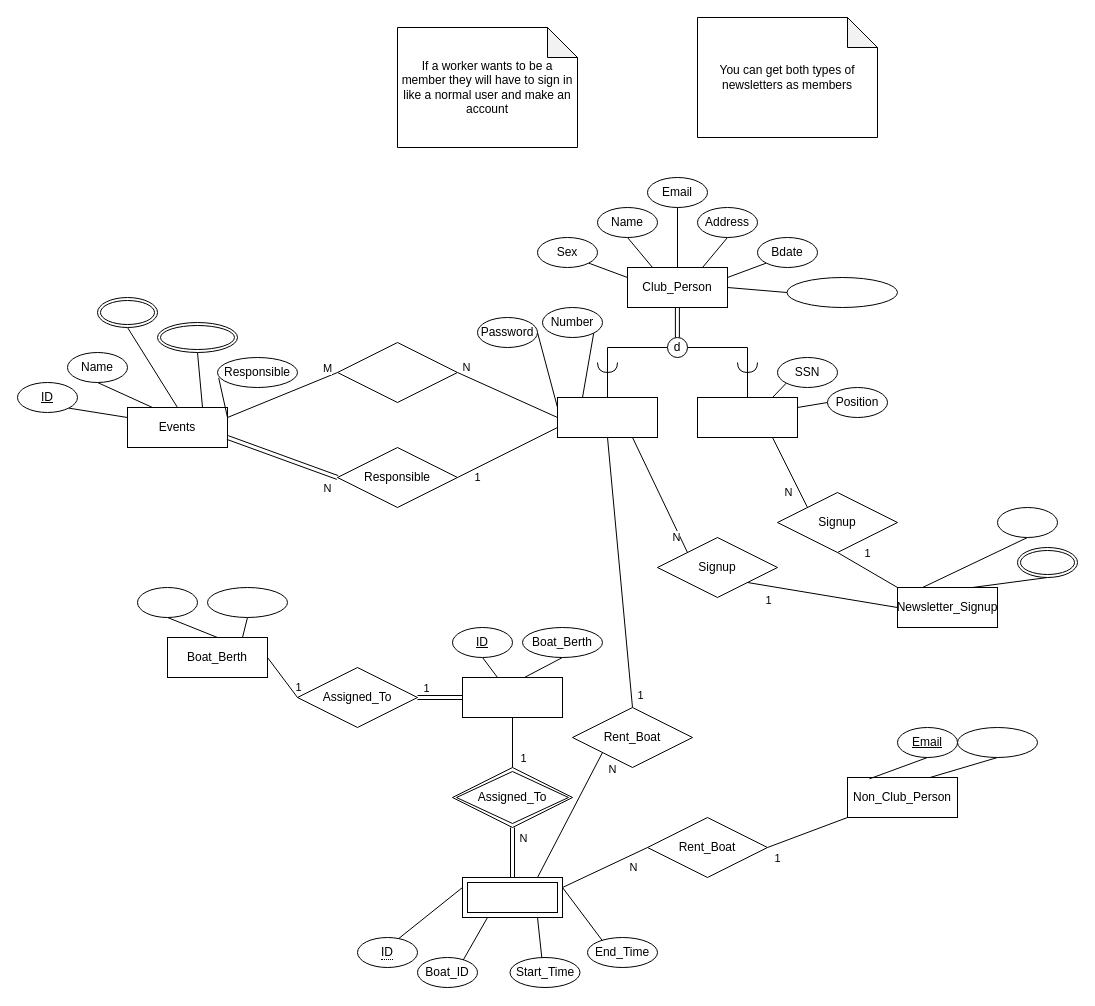
The diagram is 1095 pixels wide and 1006 high, and some of its shapes have lost their labels. Each missing label, with the centre of its shape:
"Availability" belongs at point 247,602.
"Club_Person_ID" belongs at point 842,292.
"Helper" belongs at point 397,372.
"Helpers" belongs at point 127,312.
"Location" belongs at point 167,602.
"Members" belongs at point 607,417.
"Newsletter" belongs at point 997,742.
"Registered" belongs at point 197,337.
"Rent_Boats" belongs at point 512,697.
"Rental_Timeslot" belongs at point 512,897.
"Signees" belongs at point 1047,562.
"Type" belongs at point 1027,522.
"Workers" belongs at point 747,417.
